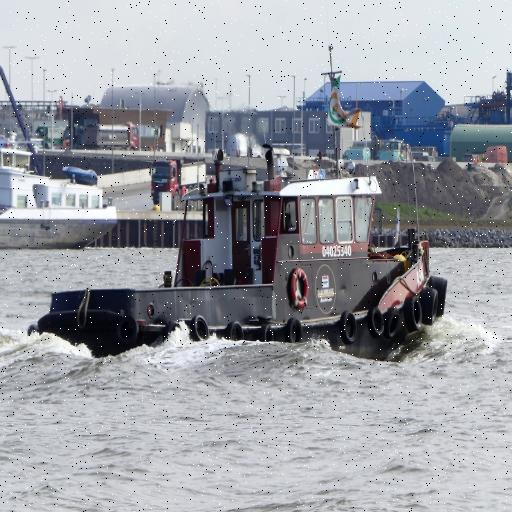tugboat: (27, 45, 451, 376)
